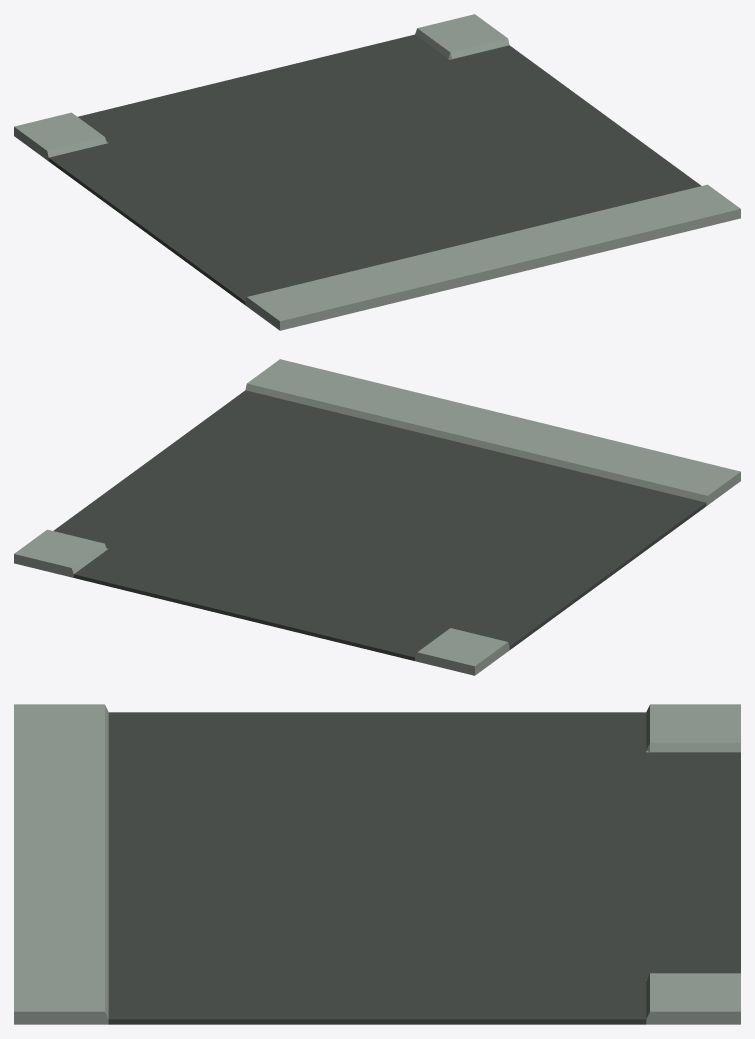
The model's file is road.003.obj.
3 renders of one model, top to bottom at view 1: azimuth 30°, elevation 25°; view 2: azimuth 150°, elevation 25°; view 3: azimuth 270°, elevation 25°, orthographic. The views are drawn at different scales.
Visible parts, largest first — view 1: Road.003; view 2: Road.003; view 3: Road.003.
Part boxes in pixels (box(x1,y1,x2,y2)): Road.003: box(14, 14, 740, 330); Road.003: box(14, 359, 740, 675); Road.003: box(14, 704, 740, 1024).
Bounding box in the file's own units: 2 × 0.0393 × 2.
1 material, 1 textured.
